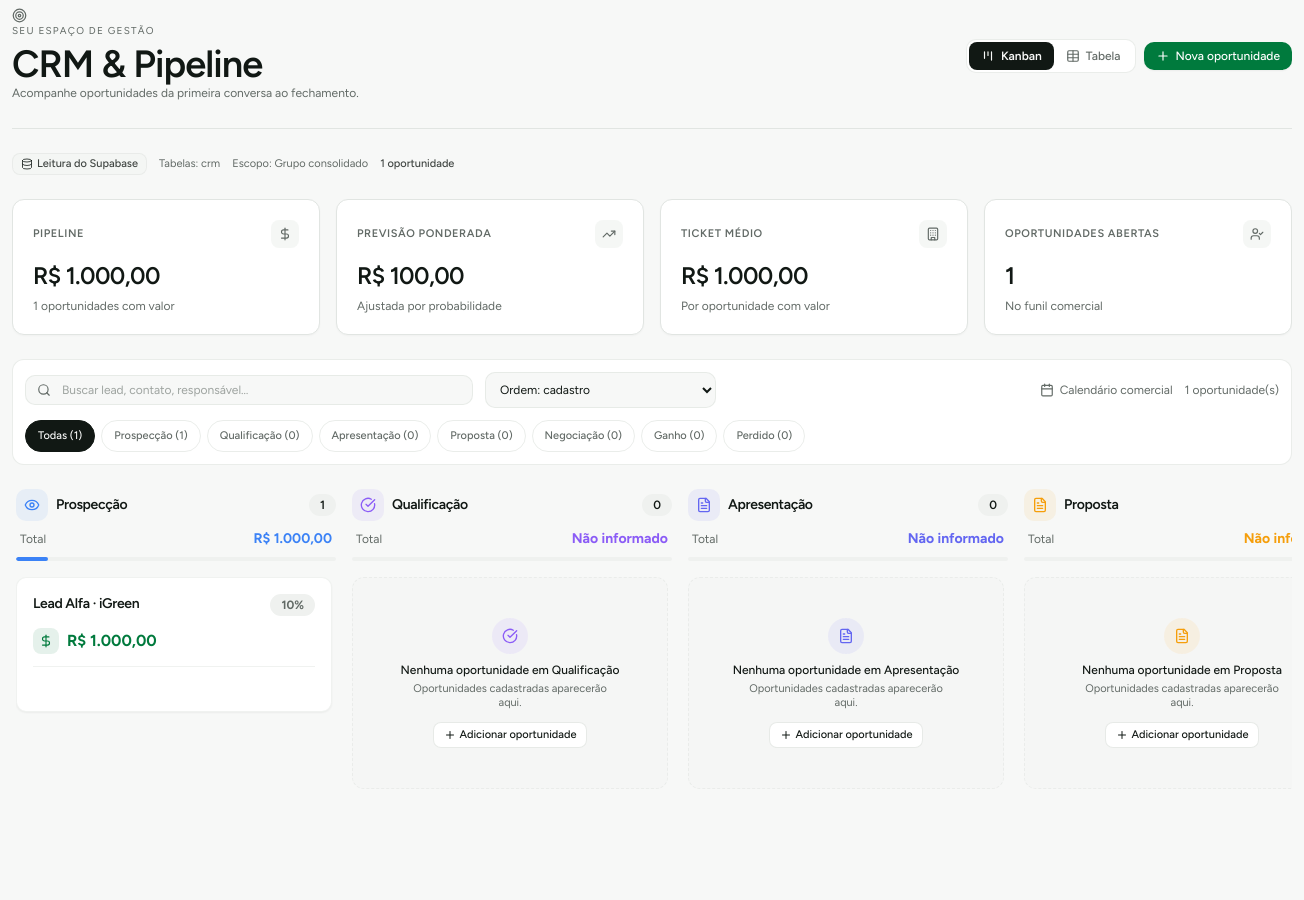
busca sem resultado oferece limpar os filtros
Expected: the heading "Lead Alfa · iGreen" is shown, [33,595,139,612]
Type "inexistente" into the search field named "Buscar oportunidade". click: (249, 390)
box: [25,375,473,405]
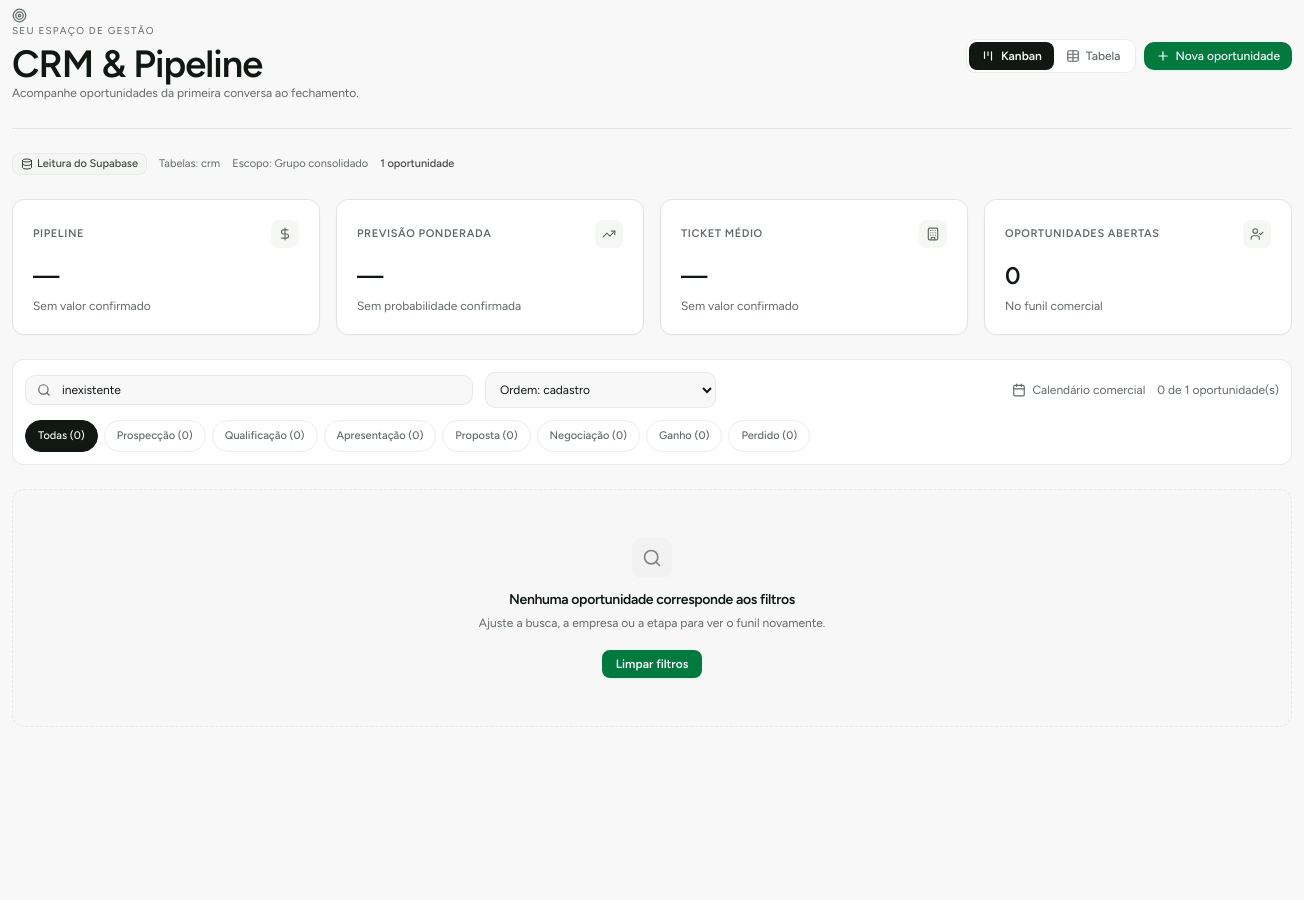
Result: the heading "Nenhuma oportunidade corresponde aos filtros" is shown at [509,590,795,610]
Click the button "Limpar filtros". click: (652, 664)
box: [602,650,702,678]
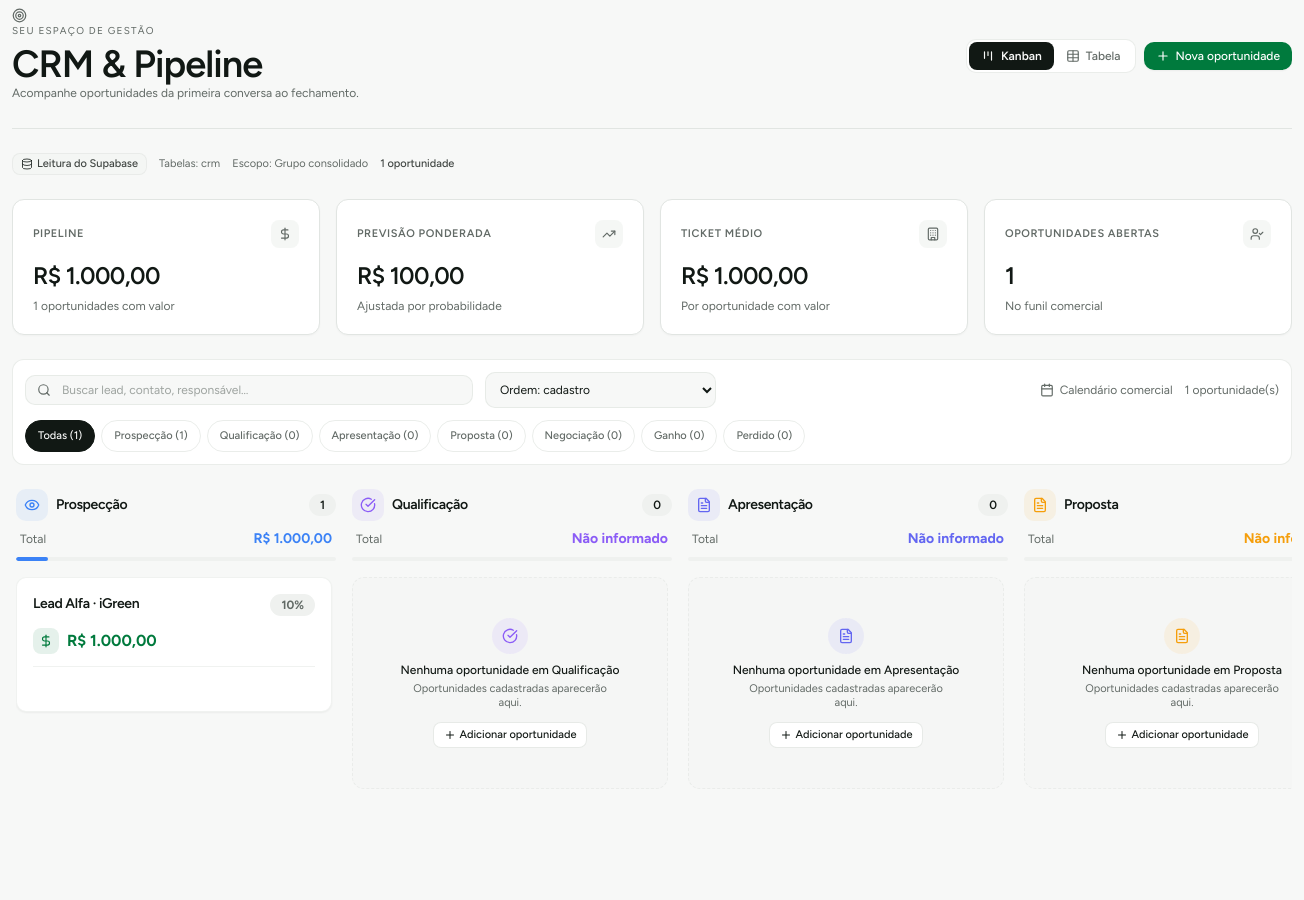
Result: the heading "Lead Alfa · iGreen" is shown at [33,595,139,612]
